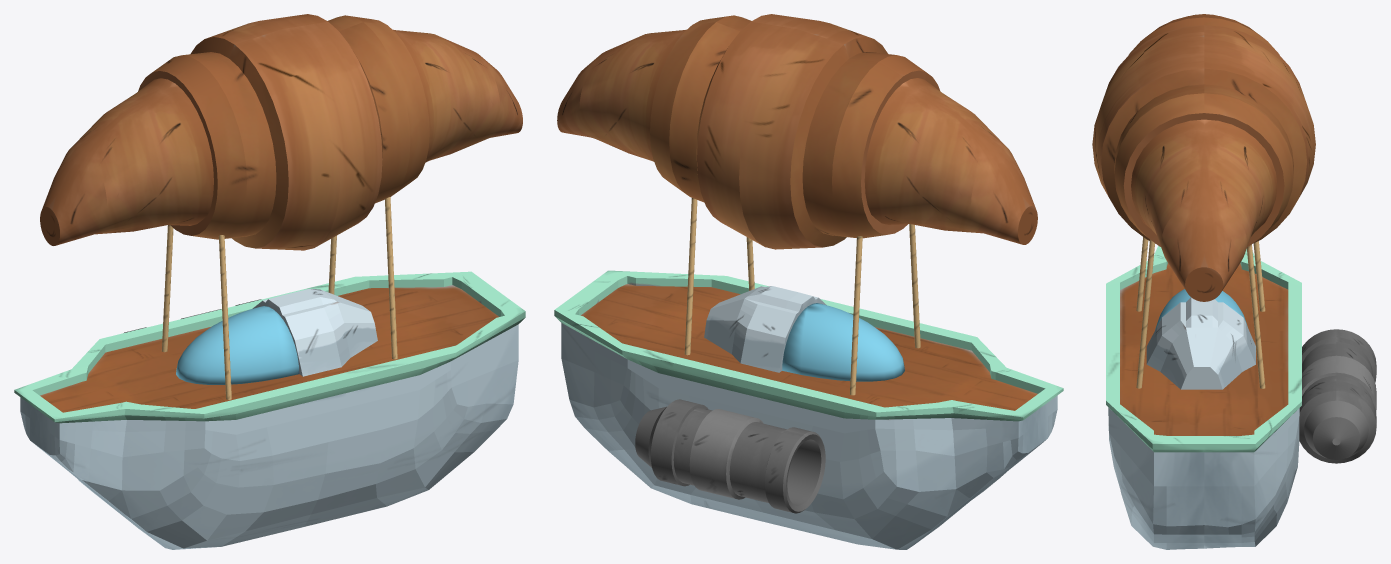
The model's file is playermodelfixedmaybe.fbx.
3 views of the same model, side by side, from view 1: azimuth 30°, elevation 25°; view 2: azimuth 150°, elevation 25°; view 3: azimuth 270°, elevation 25° (orthographic). The views are drawn at different scales.
Visible parts, largest first — view 1: Ship_body, Croissant ballon, Cockpit_main_piece, Cockpit_back_piece, Rope, Rope.002, Rope.001; view 2: Croissant ballon, Ship_body, Cannon, Cockpit_main_piece, Cockpit_back_piece, Rope.001, Rope.003, Rope; view 3: Croissant ballon, Ship_body, Cannon, Cockpit_back_piece, Rope.002, Rope.003, Cockpit_main_piece, Rope, Rope.001.
Part boxes in pixels (left/top/right/bottom): Ship_body: left=14, top=271, right=525, bottom=549; Croissant ballon: left=40, top=14, right=522, bottom=250; Cockpit_main_piece: left=176, top=306, right=299, bottom=384; Cockpit_back_piece: left=252, top=289, right=377, bottom=376; Rope: left=219, top=235, right=231, bottom=399; Rope.002: left=385, top=197, right=397, bottom=359; Rope.001: left=161, top=225, right=173, bottom=352; Croissant ballon: left=557, top=14, right=1037, bottom=249; Ship_body: left=554, top=270, right=1063, bottom=549; Cannon: left=635, top=399, right=825, bottom=513; Cockpit_main_piece: left=782, top=303, right=904, bottom=381; Cockpit_back_piece: left=704, top=286, right=826, bottom=372; Rope.001: left=850, top=236, right=862, bottom=395; Rope.003: left=684, top=198, right=697, bottom=355; Rope: left=909, top=224, right=920, bottom=348; Croissant ballon: left=1092, top=14, right=1315, bottom=301; Ship_body: left=1106, top=245, right=1301, bottom=549; Cannon: left=1299, top=329, right=1376, bottom=463; Cockpit_back_piece: left=1146, top=297, right=1255, bottom=389; Rope.002: left=1136, top=239, right=1154, bottom=388; Rope.003: left=1247, top=244, right=1265, bottom=388; Cockpit_main_piece: left=1155, top=289, right=1247, bottom=329; Rope: left=1136, top=237, right=1148, bottom=311; Rope.001: left=1253, top=241, right=1265, bottom=311.
Bounding box in the file's own units: 1975 × 1883 × 1068.
